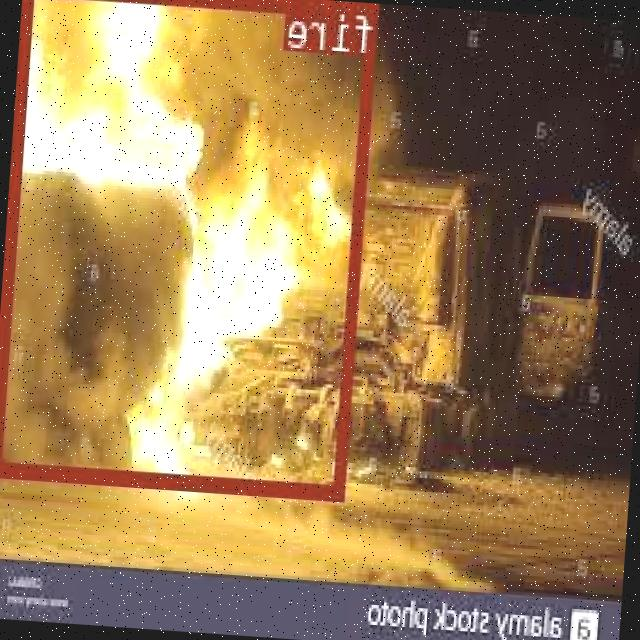fire: (0, 0, 379, 495)
